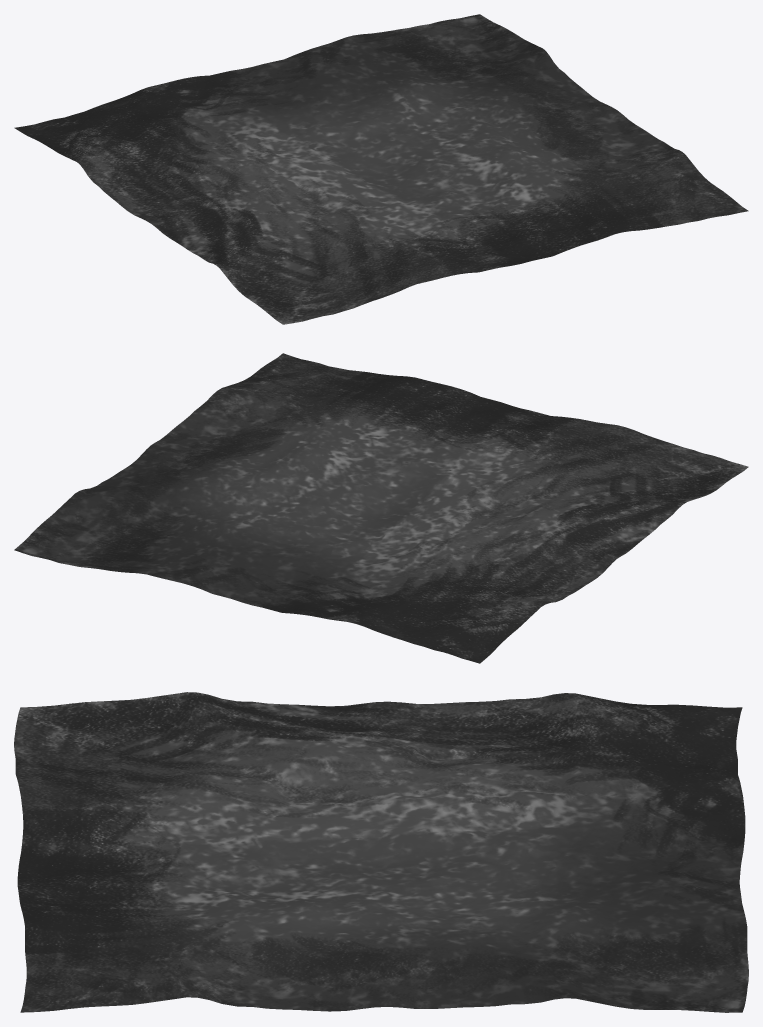
The model's file is terreno cena2.fbx.
The picture shows the model from 3 angles, top to bottom: view 1: azimuth 30°, elevation 25°; view 2: azimuth 150°, elevation 25°; view 3: azimuth 270°, elevation 25°; orthographic projection. The views are drawn at different scales.
Parts seen in each view (by area): view 1: chão; view 2: chão; view 3: chão.
Part boxes in pixels (x1,y1,x2,y2): chão: [14, 14, 748, 324]; chão: [14, 353, 748, 663]; chão: [14, 692, 748, 1012].
Size of the model in its own units: 840 by 27.34 by 843.
1 material, 1 textured.
